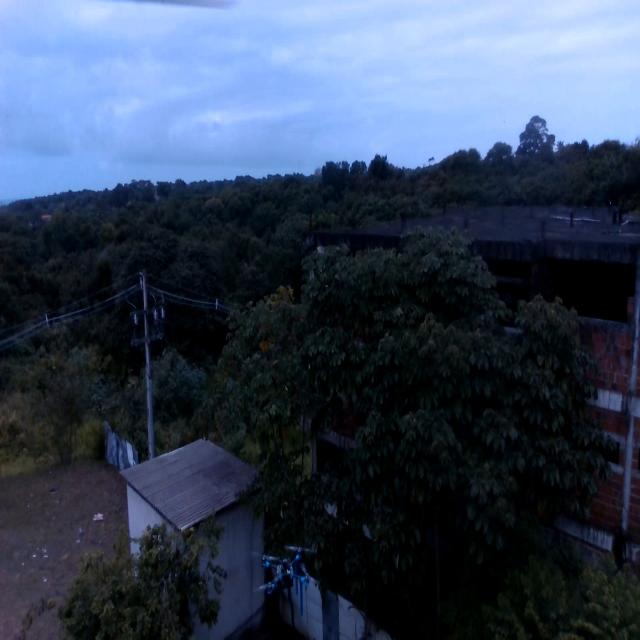-uav-: (247, 530, 321, 628)
